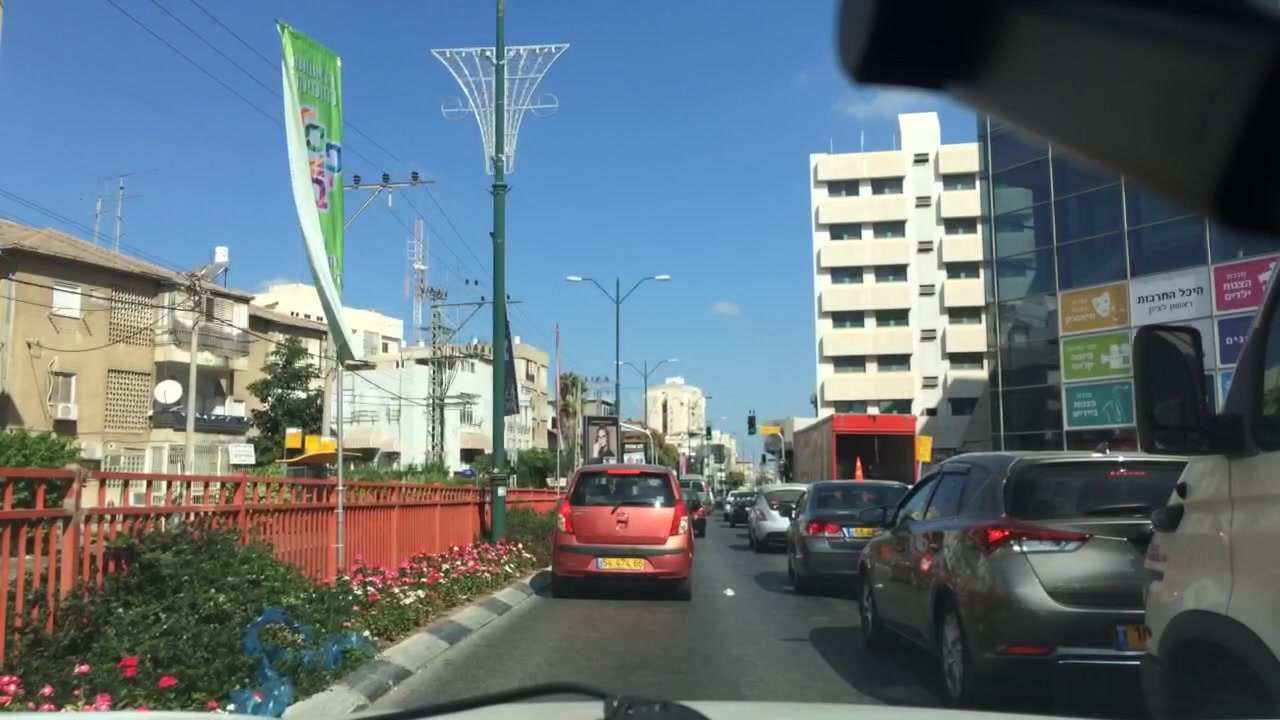licence: (593, 556, 647, 569)
